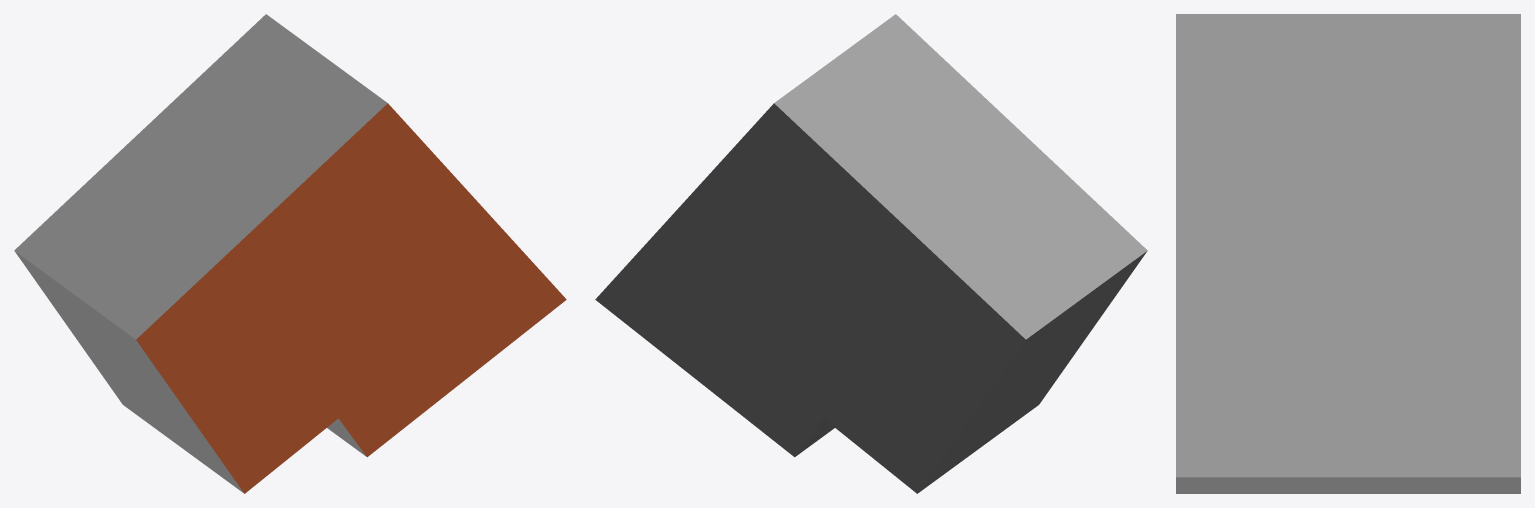
The model's file is construction_5279_assumed_A_Casa_h6m.obj.
The picture shows the model from 3 angles, left to right: view 1: azimuth 30°, elevation 25°; view 2: azimuth 150°, elevation 25°; view 3: azimuth 270°, elevation 25°; orthographic projection. The views are drawn at different scales.
Parts seen in each view (by area): view 1: construction_5279_assumed_A_Casa; view 2: construction_5279_assumed_A_Casa; view 3: construction_5279_assumed_A_Casa.
Part boxes in pixels (box(x1,y1,x2,y2)): construction_5279_assumed_A_Casa: box(14, 14, 566, 493); construction_5279_assumed_A_Casa: box(595, 14, 1147, 493); construction_5279_assumed_A_Casa: box(1176, 14, 1520, 493).
Size of the model in its own units: 12.25 by 9.67 by 6.
